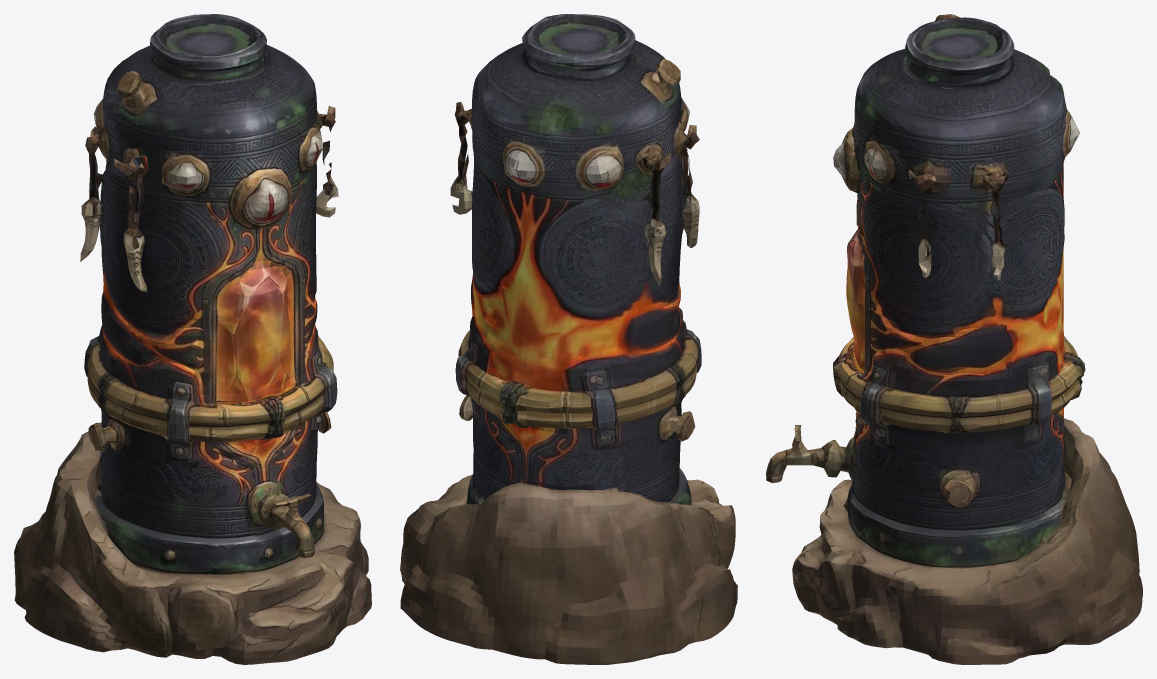
Rendered from alchemy_silo.glb.
The picture shows the model from 3 angles, left to right: view 1: azimuth 30°, elevation 25°; view 2: azimuth 150°, elevation 25°; view 3: azimuth 270°, elevation 25°; orthographic projection. The views are drawn at different scales.
Bounding box in the file's own units: 1.12 × 1.91 × 1.18.
1 material, 1 textured.
